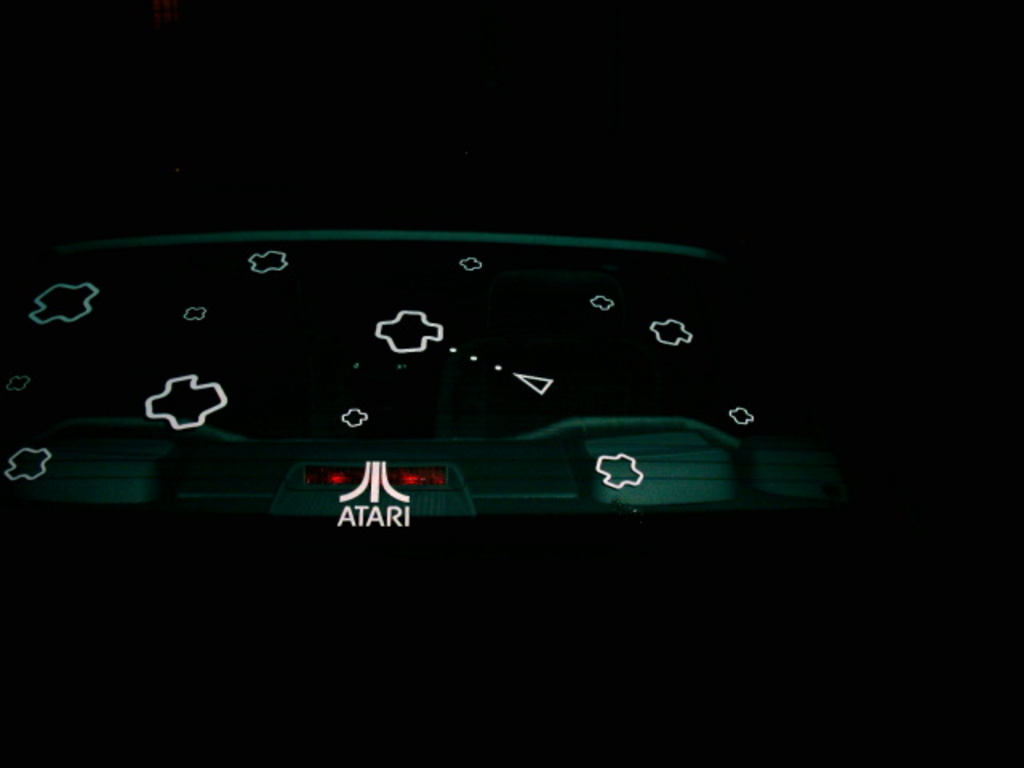Car: (0, 219, 1022, 766)
